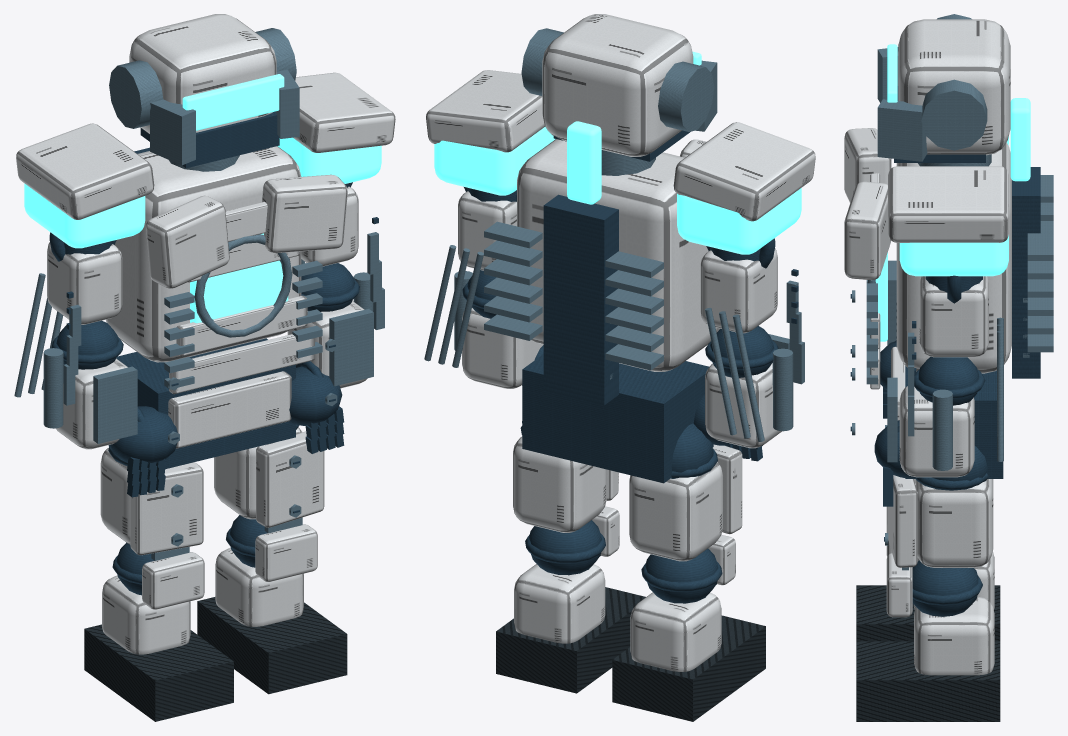
File: light-sport-robot-lod0.glb
The picture shows the model from 3 angles, left to right: view 1: azimuth 30°, elevation 25°; view 2: azimuth 150°, elevation 25°; view 3: azimuth 270°, elevation 25°; orthographic projection. The views are drawn at different scales.
Parts seen in each view (by area): view 1: robot:torso:core-shell, robot:foot:-1, robot:foot:1, robot:head, robot:shoulder:cap:-1, robot:shoulder:cap:1, robot:pelvis:armour-front, robot:pectoral:1, robot:pectoral:-1, robot:thigh:armour:1, robot:thigh:armour:-1, robot:pelvis (+36 smaller); view 2: robot:head, robot:torso:core-shell, robot:pelvis, robot:torso:spine, robot:shoulder:cap:-1, robot:foot:-1, robot:foot:1, robot:leg:thigh:-1, robot:shoulder:cap:1, robot:leg:thigh:1, robot:leg:shin:-1, robot:leg:shin:1 (+38 smaller); view 3: robot:head, robot:shoulder:cap:1, robot:foot:1, robot:leg:thigh:1, robot:leg:shin:1, robot:torso:core-shell, robot:arm:upper-shell:1, robot:torso:spine, robot:arm:forearm:1, robot:pectoral:1, robot:ear:hub:1, robot:identity:shoulder:1 (+34 smaller).
Part boxes in pixels (<box>): robot:torso:core-shell: <box>106,146,301,362</box>; robot:foot:-1: <box>84,624,233,721</box>; robot:foot:1: <box>197,597,347,694</box>; robot:head: <box>129,14,276,133</box>; robot:shoulder:cap:-1: <box>16,123,154,219</box>; robot:shoulder:cap:1: <box>293,72,395,152</box>; robot:pelvis:armour-front: <box>168,371,291,448</box>; robot:pectoral:1: <box>262,174,347,253</box>; robot:pectoral:-1: <box>146,195,229,288</box>; robot:thigh:armour:1: <box>256,431,324,527</box>; robot:thigh:armour:-1: <box>130,462,203,555</box>; robot:pelvis: <box>116,338,295,468</box>; robot:head: <box>542,14,693,156</box>; robot:torso:core-shell: <box>517,139,717,371</box>; robot:pelvis: <box>522,354,713,483</box>; robot:torso:spine: <box>543,194,618,405</box>; robot:shoulder:cap:-1: <box>673,122,815,221</box>; robot:foot:-1: <box>612,615,765,721</box>; robot:foot:1: <box>496,587,645,693</box>; robot:leg:thigh:-1: <box>629,462,722,561</box>; robot:shoulder:cap:1: <box>426,70,545,152</box>; robot:leg:thigh:1: <box>513,436,606,532</box>; robot:leg:shin:-1: <box>630,592,721,671</box>; robot:leg:shin:1: <box>514,564,605,643</box>; robot:head: <box>898,19,1010,155</box>; robot:shoulder:cap:1: <box>888,166,1008,242</box>; robot:foot:1: <box>856,641,1000,721</box>; robot:leg:thigh:1: <box>915,479,993,567</box>; robot:leg:shin:1: <box>914,596,994,675</box>; robot:torso:core-shell: <box>896,142,1011,373</box>; robot:arm:upper-shell:1: <box>919,276,988,357</box>; robot:torso:spine: <box>1012,167,1040,378</box>; robot:arm:forearm:1: <box>899,386,974,477</box>; robot:pectoral:1: <box>844,181,890,280</box>; robot:ear:hub:1: <box>921,79,987,150</box>; robot:identity:shoulder:1: <box>899,235,1008,276</box>.
Bounding box in the file's own units: 1.34 × 2.44 × 0.7273.
5 materials, 4 textured.
